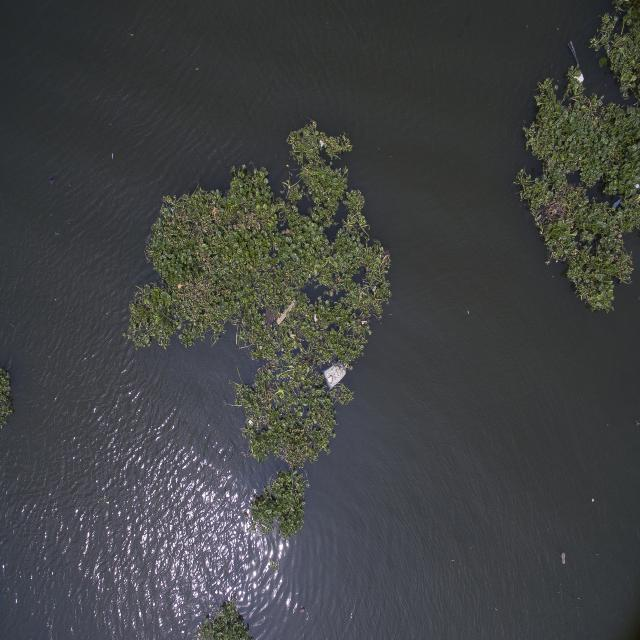plastic: (314, 352, 360, 401), (571, 68, 590, 92)
